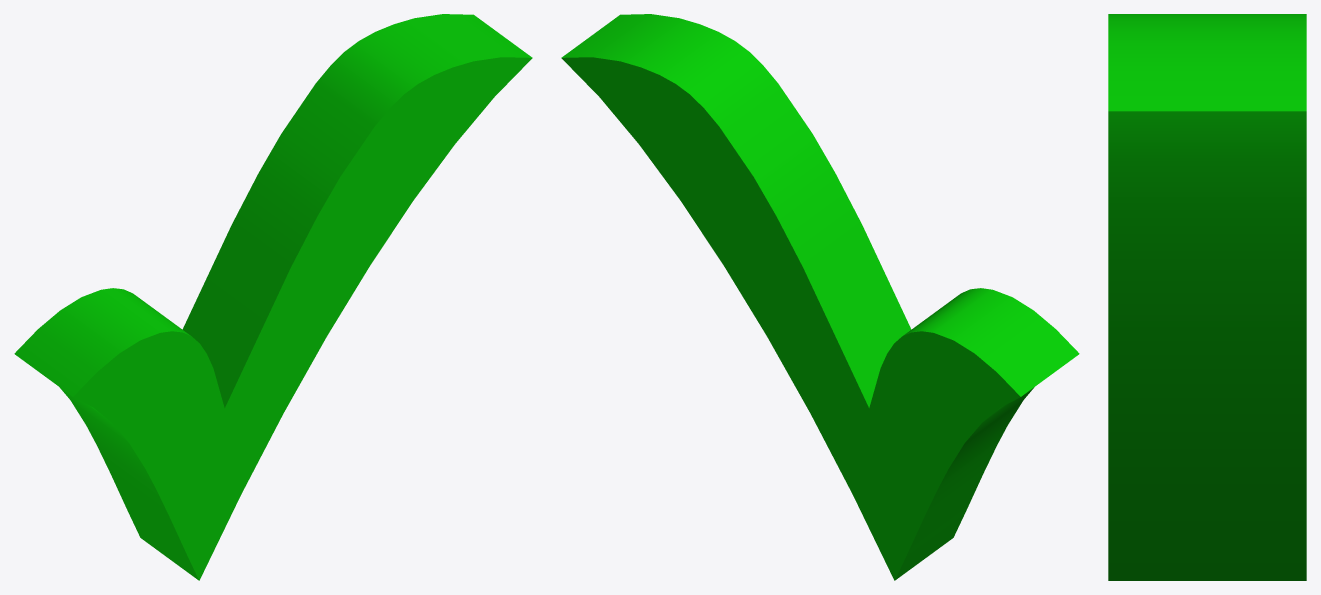
The model's file is CheckMark2.dae.
3 renders of one model, left to right at view 1: azimuth 30°, elevation 25°; view 2: azimuth 150°, elevation 25°; view 3: azimuth 270°, elevation 25°, orthographic. The views are drawn at different scales.
Parts seen in each view (by area): view 1: typeMesh1; view 2: typeMesh1; view 3: typeMesh1.
Boxes of the visible parts, <box> form: typeMesh1: <box>14,14,532,580</box>; typeMesh1: <box>561,14,1079,580</box>; typeMesh1: <box>1108,14,1306,580</box>.
Bounding box in the file's own units: 11.25 × 10.59 × 2.5.
